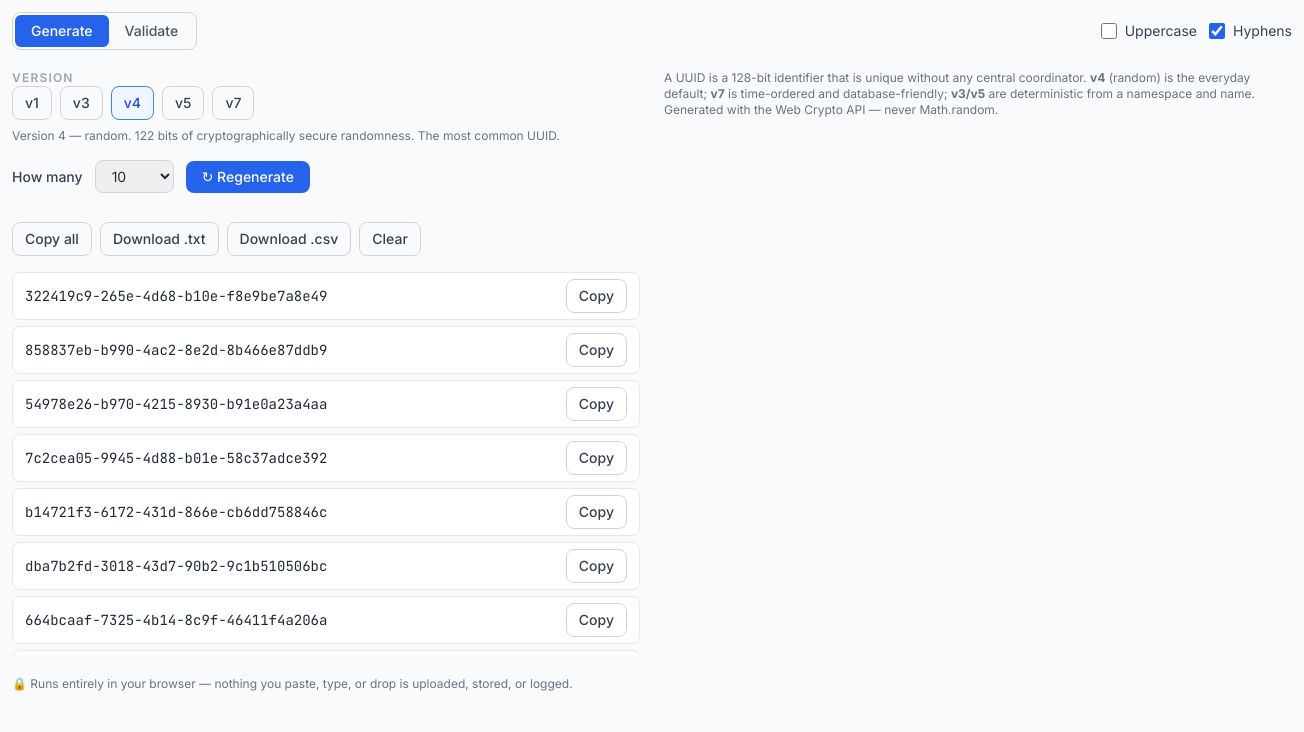
it: UuidGenerator › removes hyphens when the toggle is off
The width and height of the screenshot is (1304, 732).
Step 1. Click the checkbox labelled "Hyphens" → (1217,31), box top-left (1209, 23), bottom-right (1225, 39)
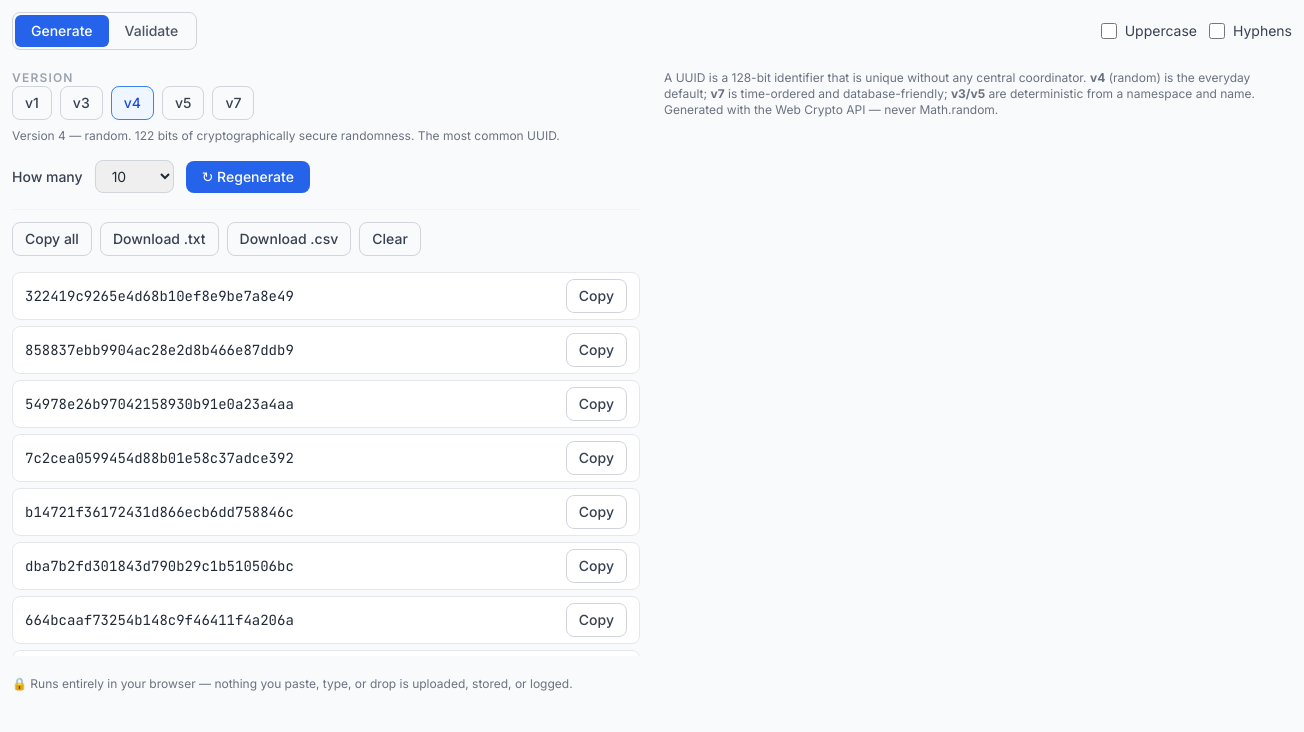
Now the text "-" is gone
